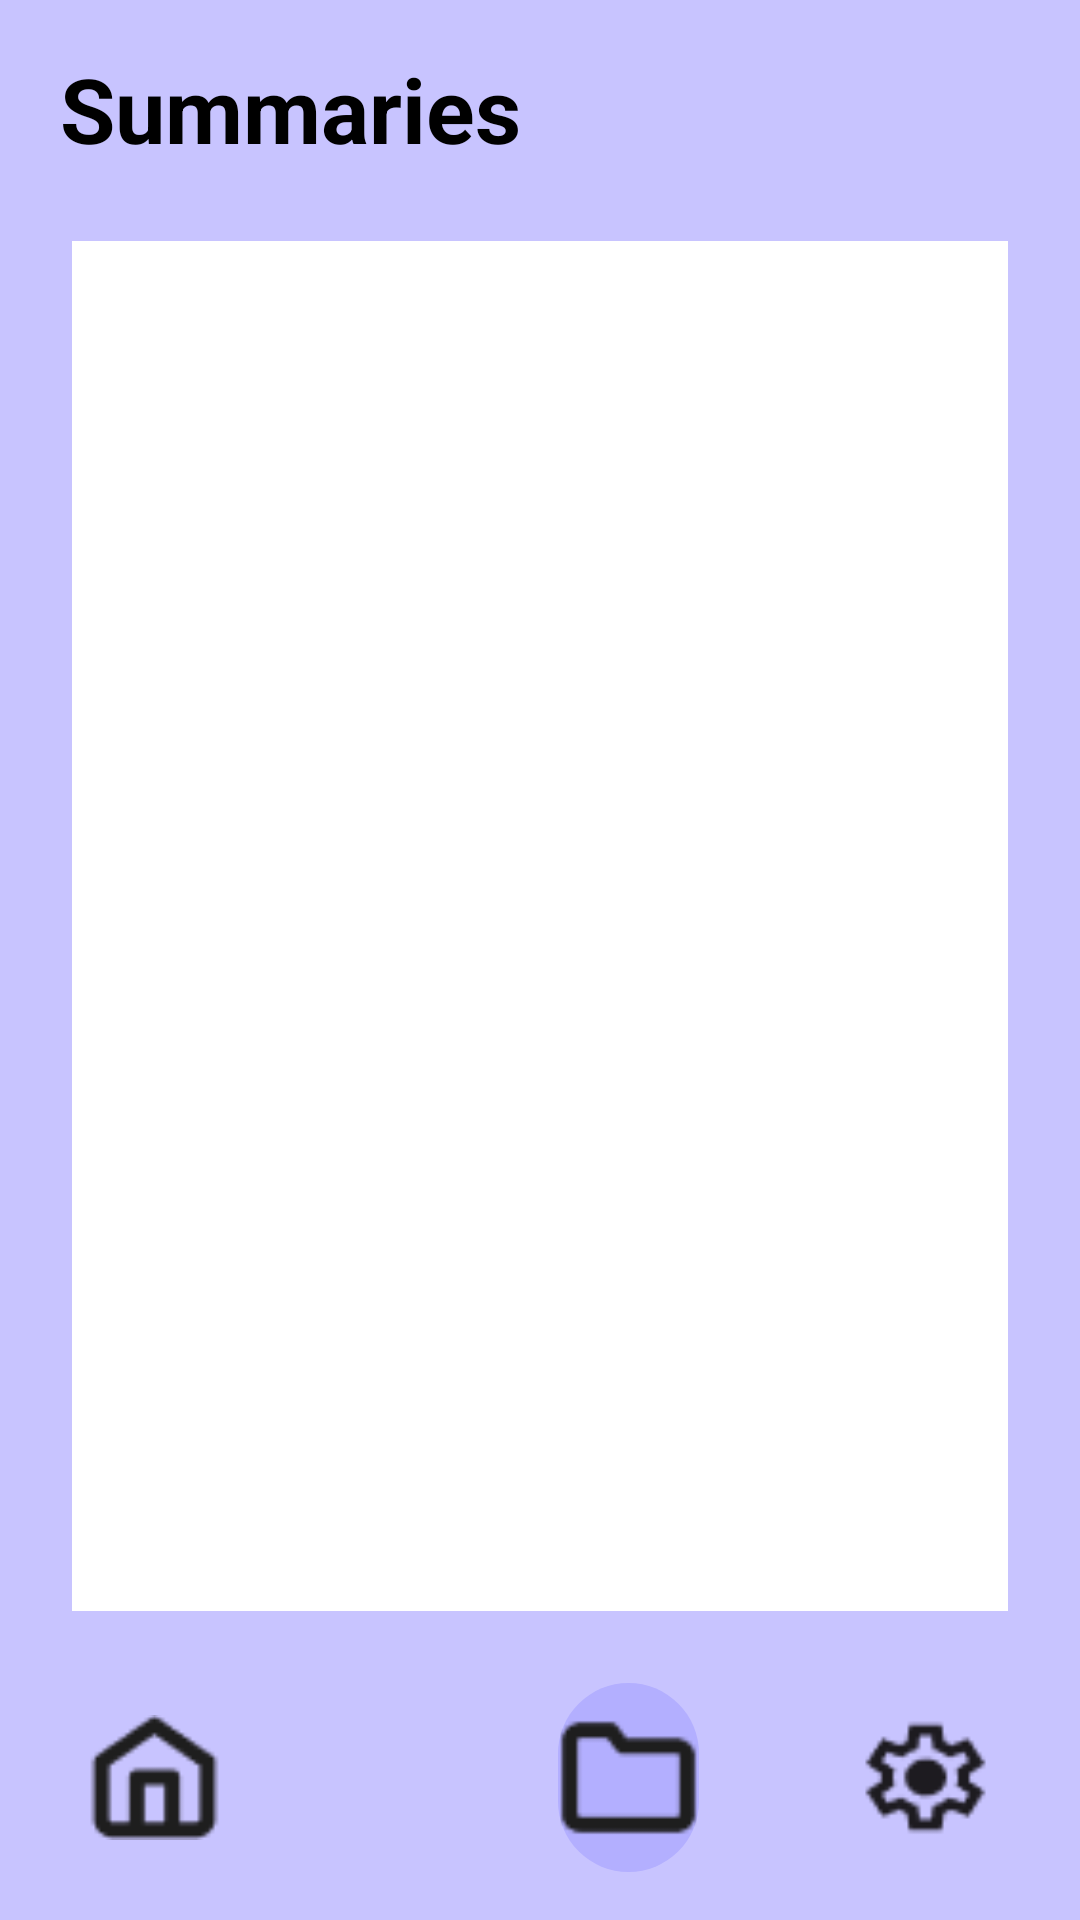

Named icons in this screenshot (1080px x 1920px) and their centers, point (x, y):
folder: point (628, 1777)
home: point (154, 1777)
settings: point (925, 1777)
